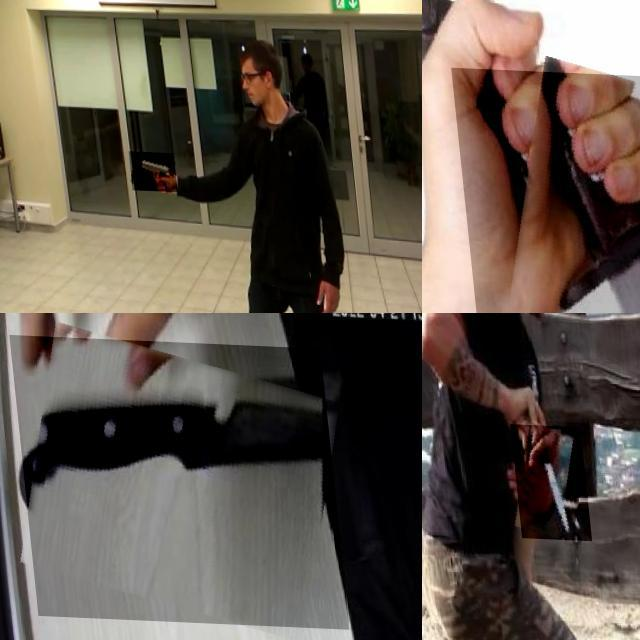-: (8, 334, 342, 626), (448, 66, 640, 313), (506, 422, 585, 538)
gun-knife-thesis - v11 Yolov5 augmented: (121, 150, 169, 190)
